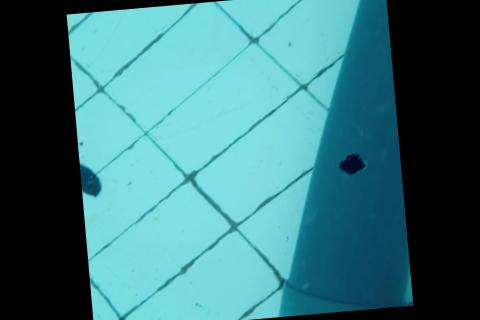kebocoran: (336, 149, 368, 176)
